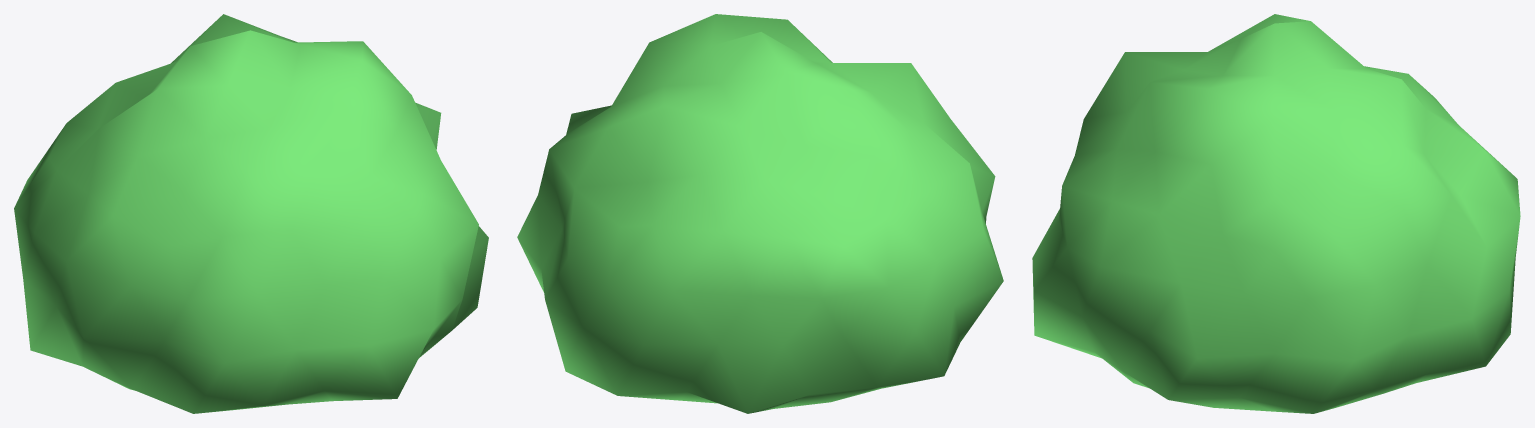
The model's file is bushcone.fbx.
3 renders of one model, left to right at view 1: azimuth 30°, elevation 25°; view 2: azimuth 150°, elevation 25°; view 3: azimuth 270°, elevation 25°, orthographic. The views are drawn at different scales.
Visible parts, largest first — view 1: Icosphere; view 2: Icosphere; view 3: Icosphere.
Boxes of the visible parts, x1=… form: Icosphere: x1=14, y1=14, x2=488, y2=413; Icosphere: x1=517, y1=14, x2=1003, y2=413; Icosphere: x1=1032, y1=14, x2=1520, y2=413.
Bounding box in the file's own units: 655 × 482 × 655.
